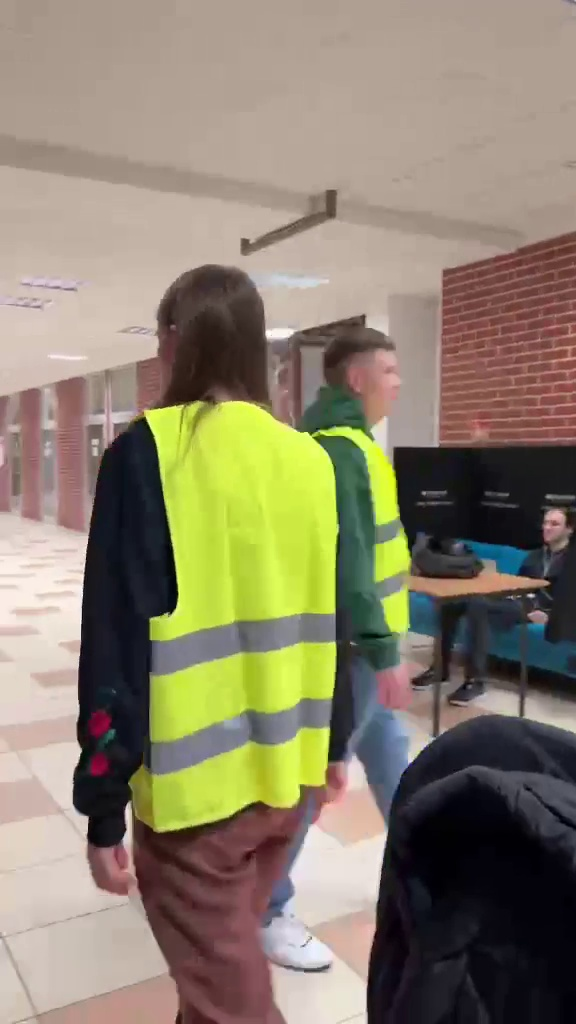no vest: (430, 495, 570, 710)
vest: (60, 267, 340, 1023), (306, 315, 426, 816)
